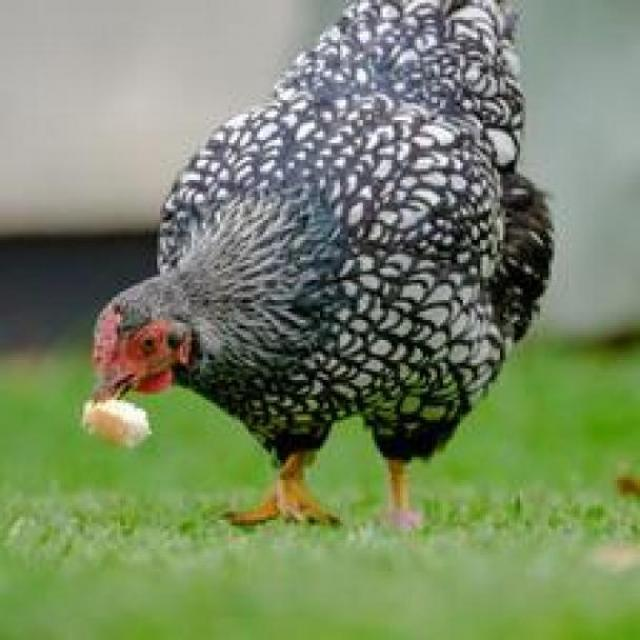Chicken: (65, 2, 575, 558)
